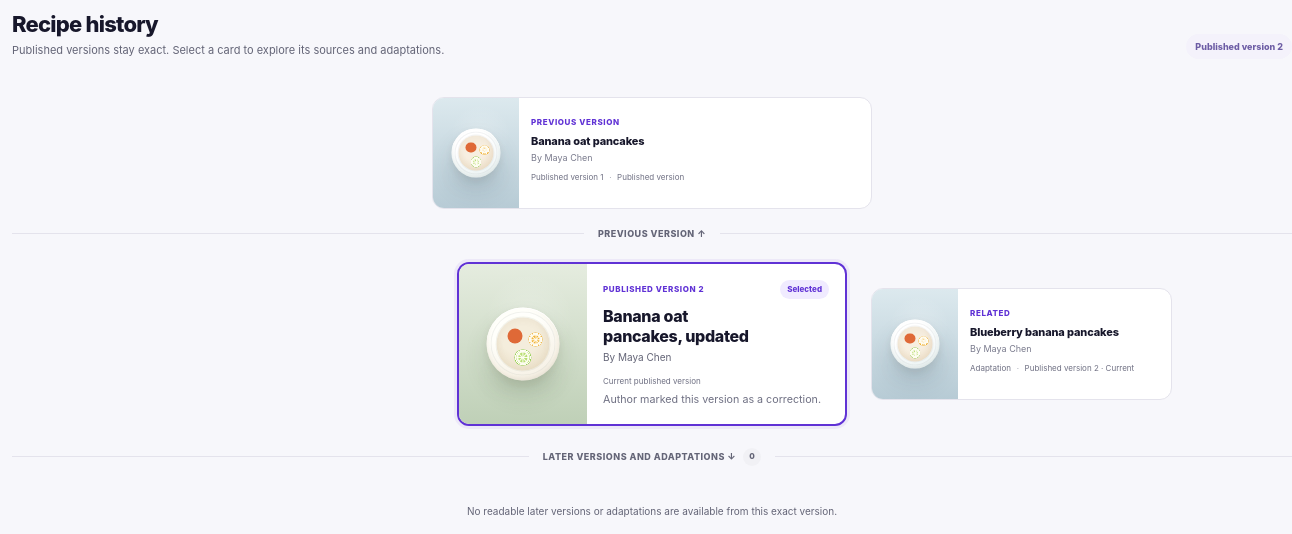
it: RecipeFamilyNavigator › distinguishes published editions from adaptations and keeps links exact
The image size is (1292, 534).
Expected: the text "Published version 2" in the row of "Recipe history" is shown, [1195, 41, 1283, 52]
Expected: the text "Published version 1" is shown, [531, 172, 604, 184]
Click the button named "Show Banana oat pancakes in recipe history" at (652, 153), box [433, 98, 871, 208]
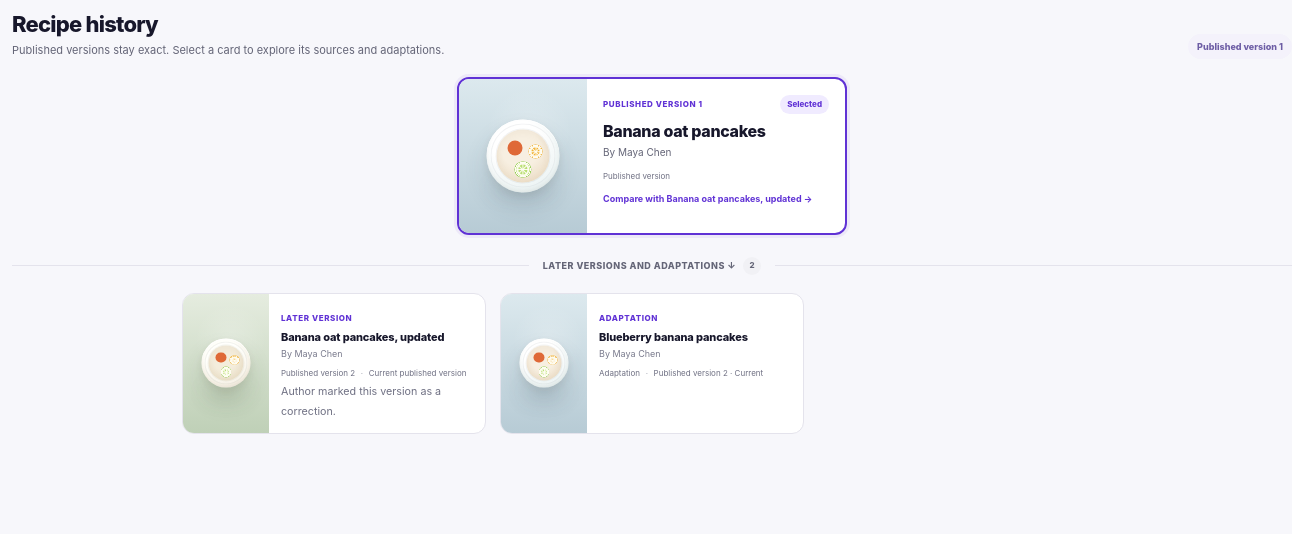
Expected: the button named "Show Blueberry banana pancakes in recipe history" is shown, [501, 294, 803, 433]
Now the text "Adaptation" is shown, box [599, 313, 658, 323]
